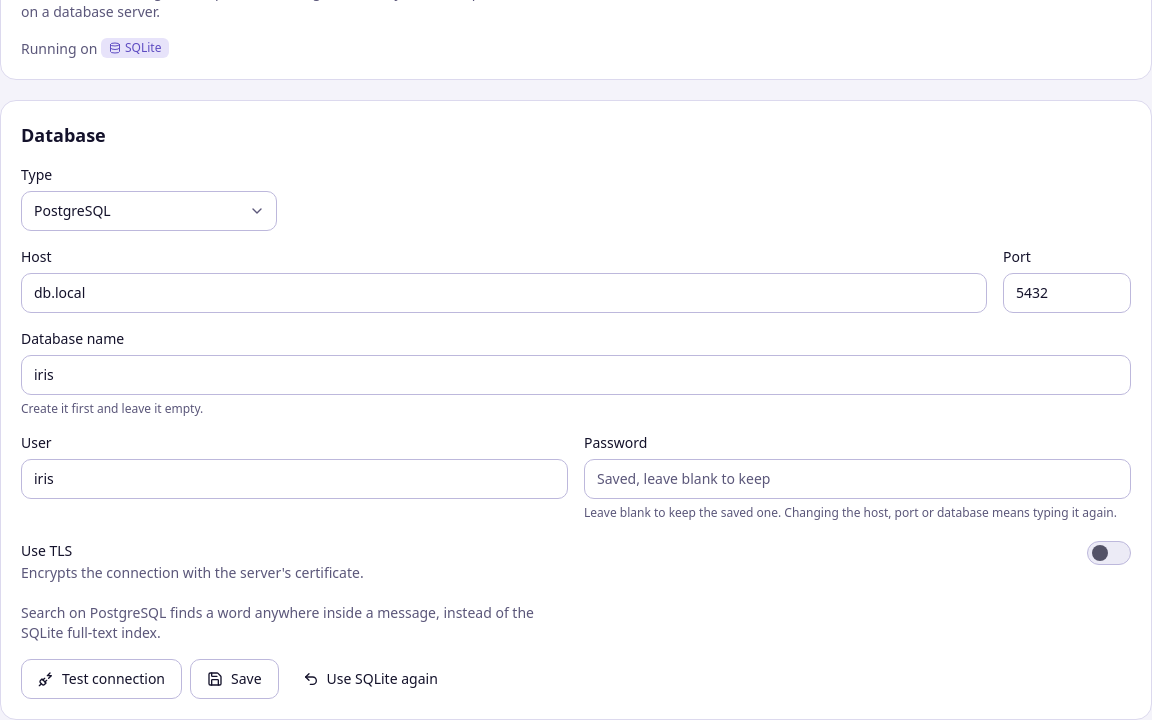
a blank password is sent as null so the stored one is kept
(page scrolled)
Click the button "Test connection" at coordinates (102, 679), box [21,659,182,699]
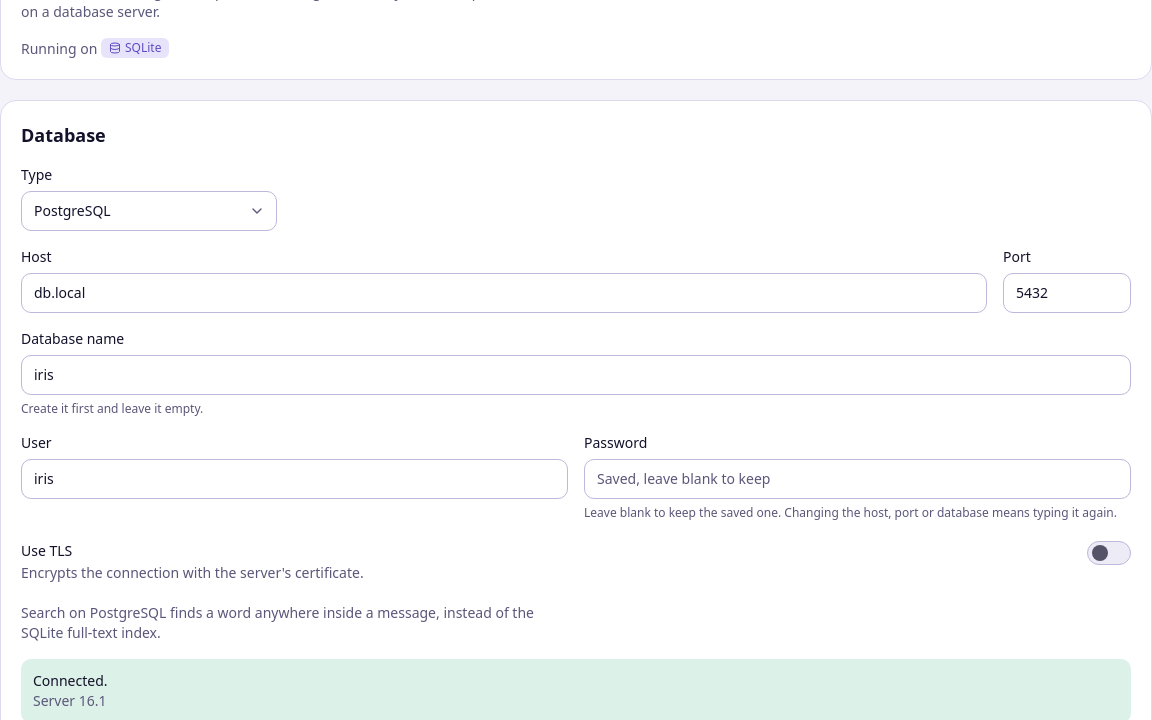
expect the text "Connected." is shown: met, box [33,671,108,690]
